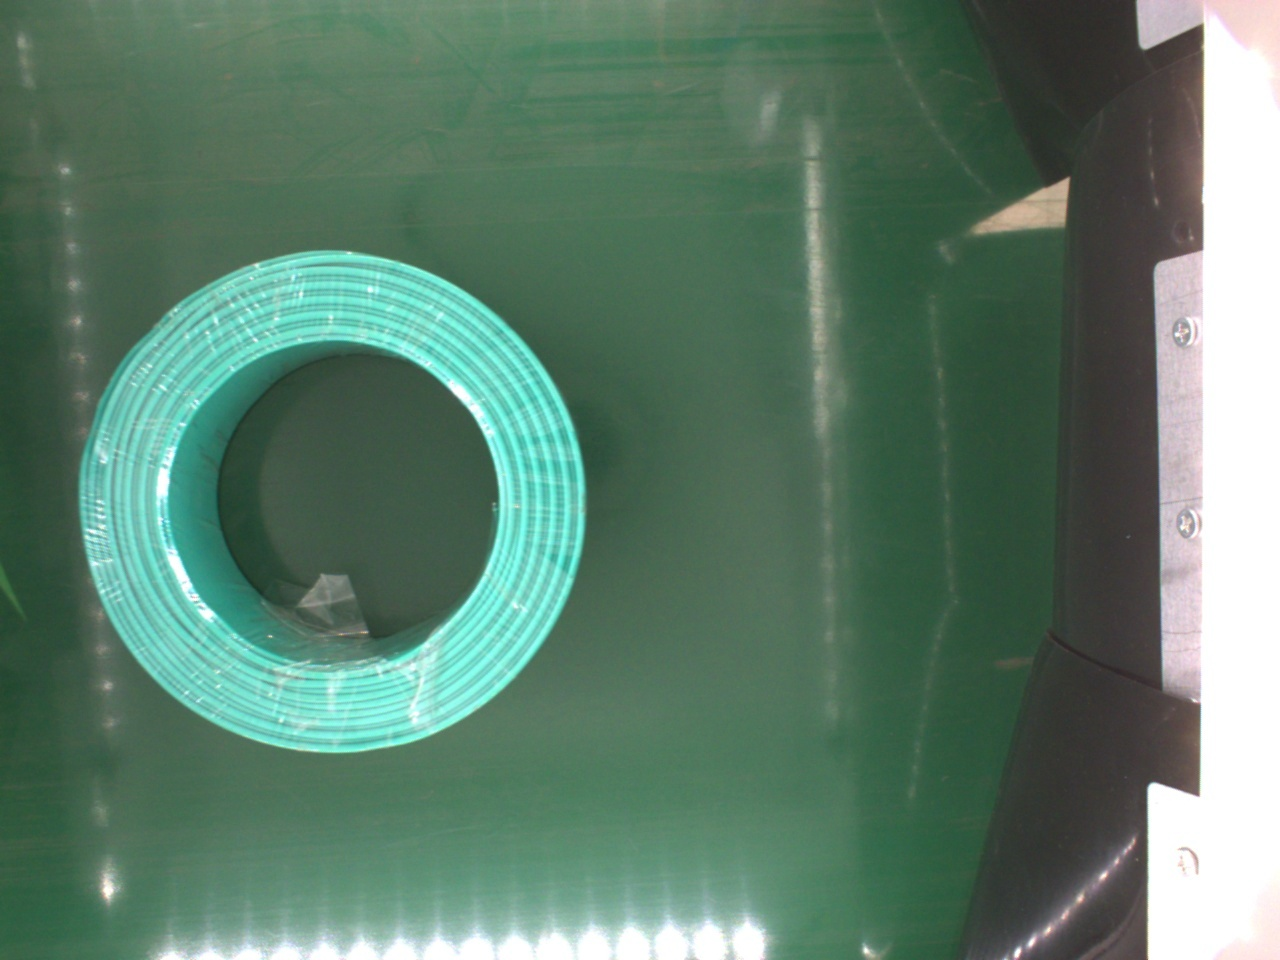green: (76, 250, 587, 753)
